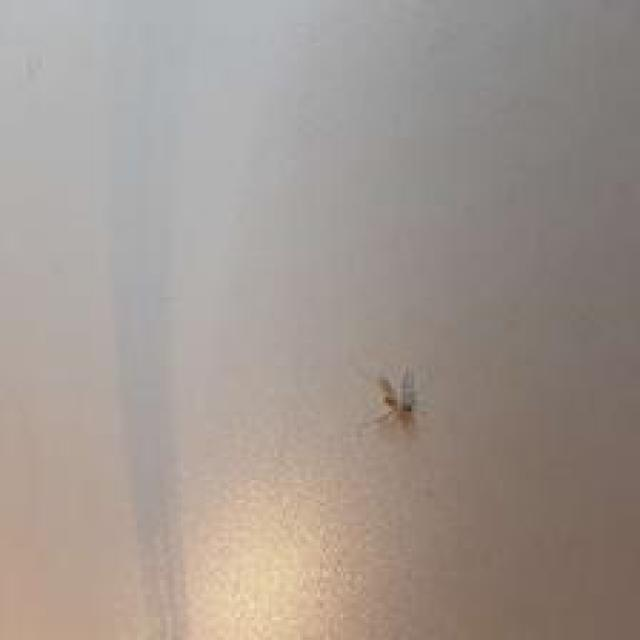Culex: (350, 354, 430, 437)
